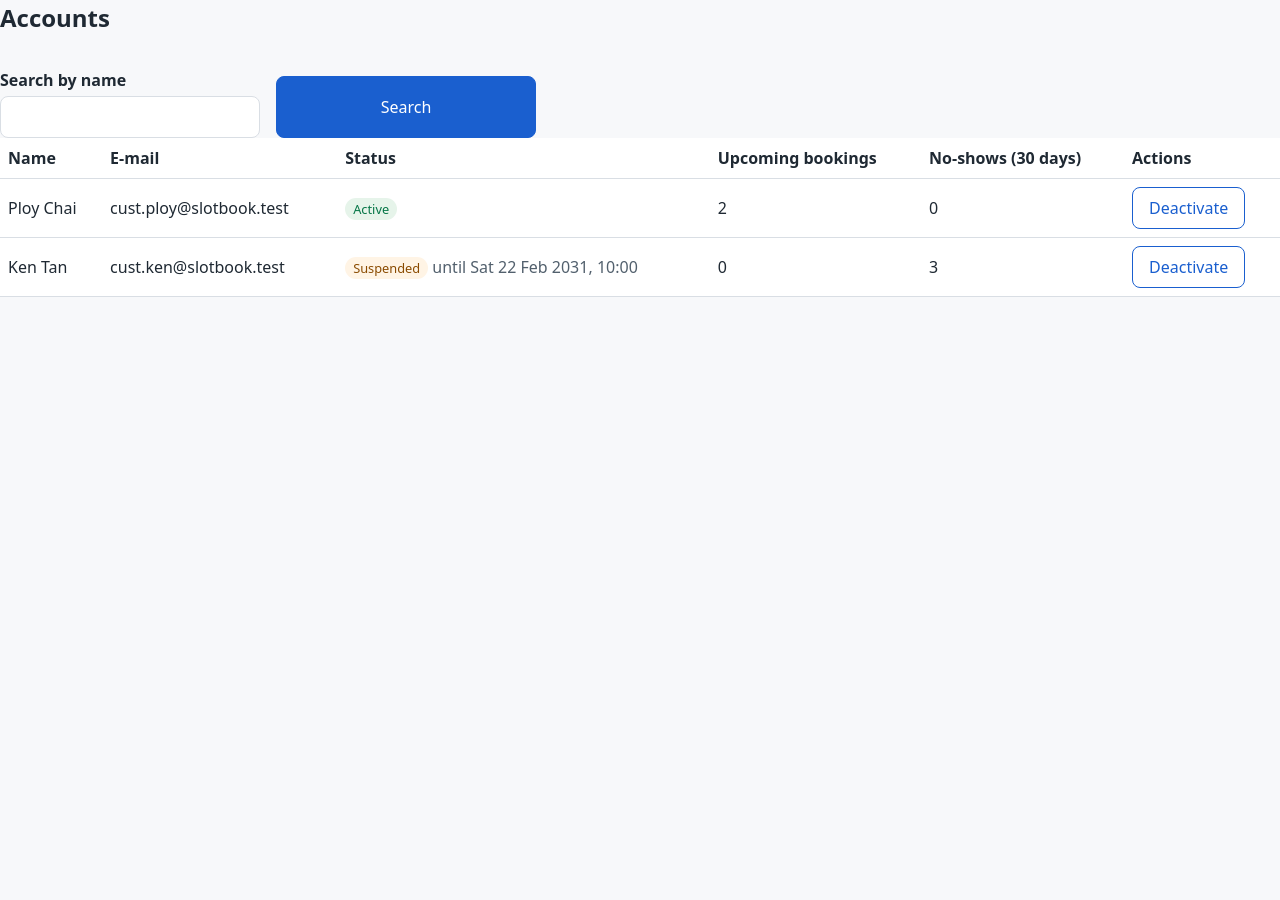
Test: AccountsPage (F-17) › UI-15: status badges (Active / Suspended until … / Inactive); the deactivate dialog names the bookings; the row becomes Inactive
Expected: the text "Active" is shown, [345,198,397,220]
Expected: the text "Suspended" is shown, [345,257,428,279]
Click the button with aria-label "Deactivate Ploy Chai".
click(1189, 208)  # box [1132,187,1245,229]
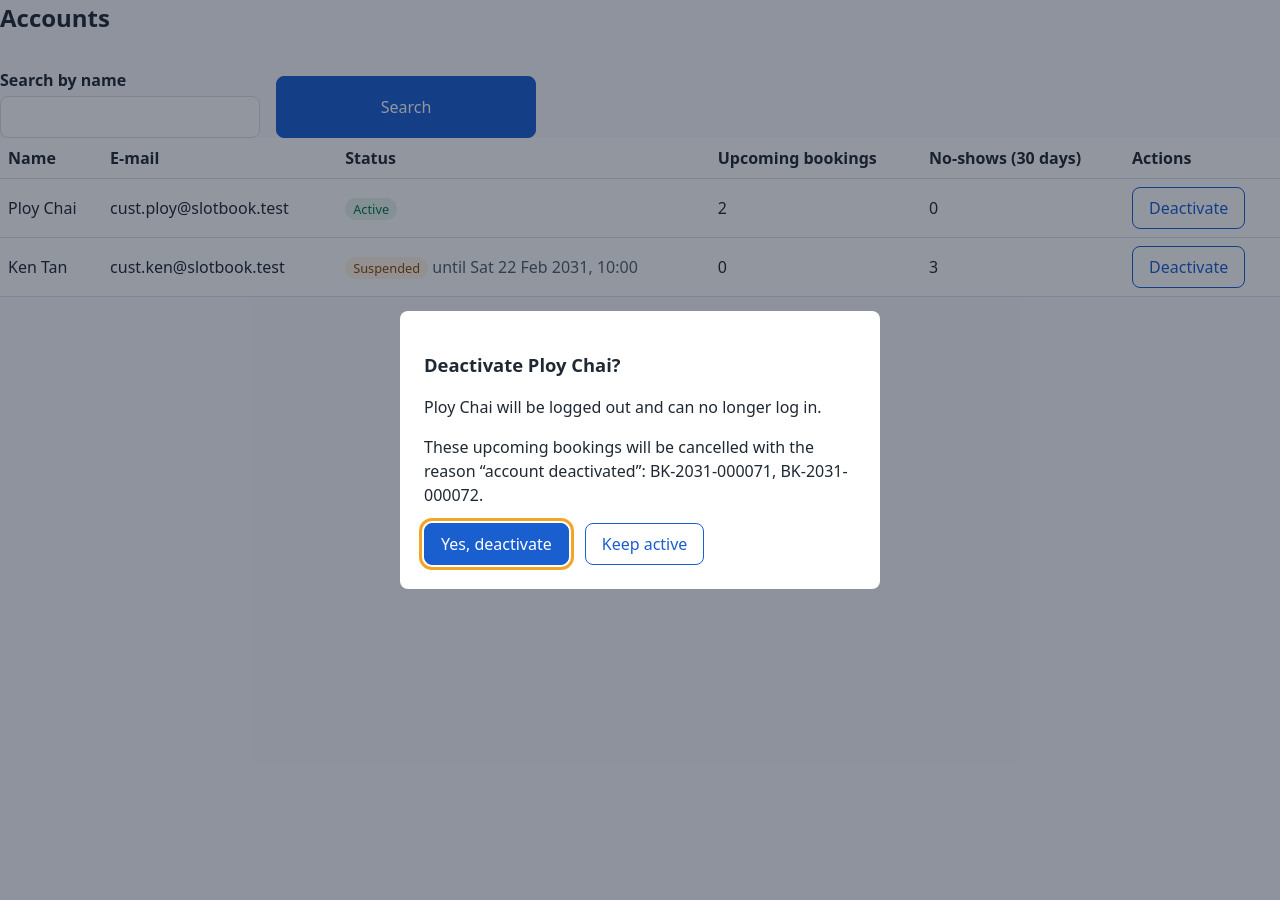
Expected: the dialog "Deactivate Ploy Chai?" shows "These upcoming bookings will be cancelled with the reason “account deactivated”: BK-2031-000071, BK-2031-000072.", [400,311,880,589]
Click the button "Yes, deactivate".
click(496, 544)  # box [424,523,569,565]
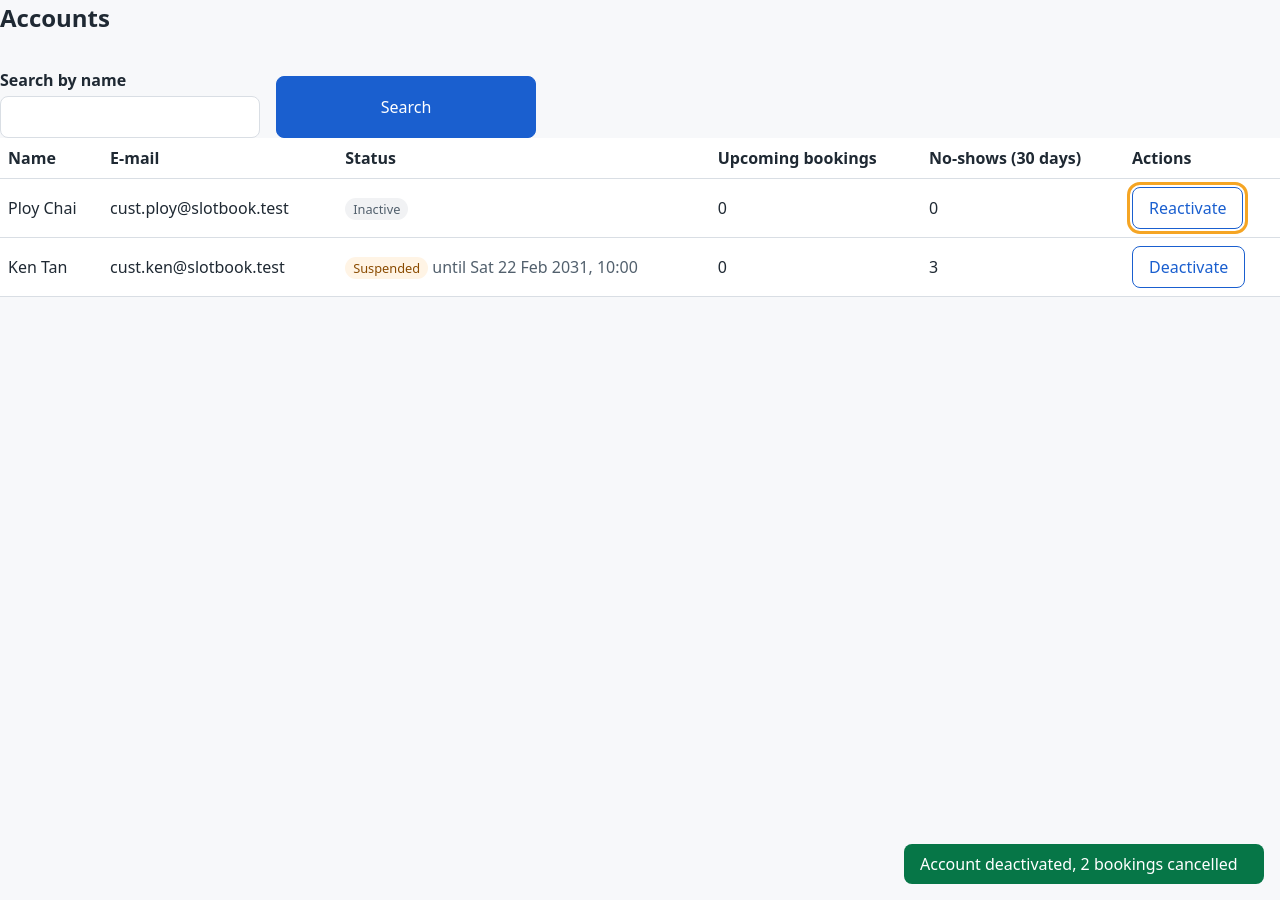
Expected: the text "Account deactivated, 2 bookings cancelled" is shown, [904,844,1264,884]
Expected: the text "Inactive" is shown, [345,198,408,220]
Expected: the button with aria-label "Reactivate Ploy Chai" is shown, [1132,187,1244,229]
